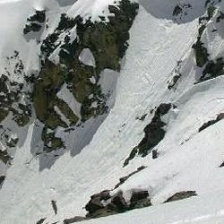neutral: (6, 11, 224, 221)
